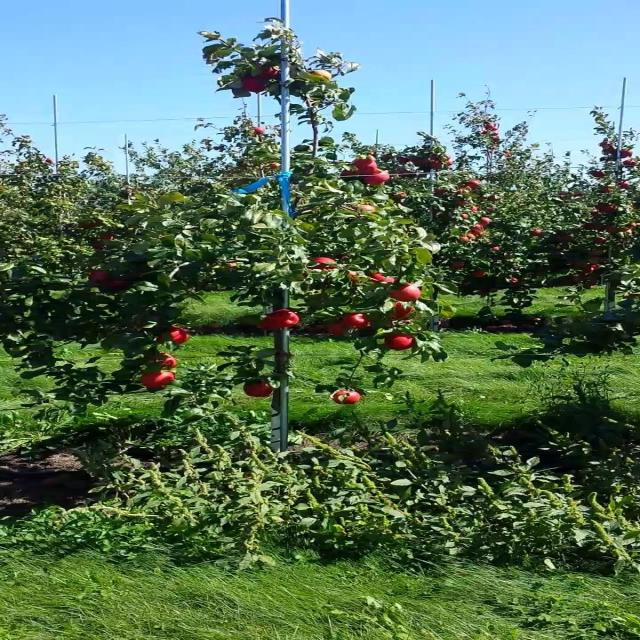apple: (141, 372, 178, 391), (390, 284, 420, 303), (269, 312, 299, 328), (248, 384, 277, 399), (362, 172, 391, 187), (333, 392, 363, 406), (390, 336, 416, 352), (340, 316, 370, 328), (390, 304, 412, 320), (170, 328, 192, 344), (241, 80, 270, 92), (355, 160, 377, 175), (255, 68, 279, 80), (326, 324, 348, 336), (156, 356, 178, 368), (262, 316, 277, 332), (106, 280, 128, 290), (312, 72, 334, 80), (340, 168, 359, 177), (92, 272, 110, 281), (376, 276, 396, 284), (319, 260, 336, 269), (340, 172, 357, 177), (356, 208, 377, 212), (348, 272, 357, 281)
